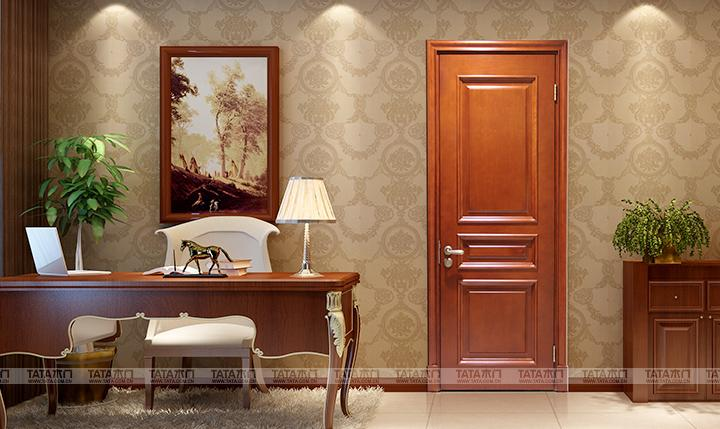door: (438, 50, 557, 388)
